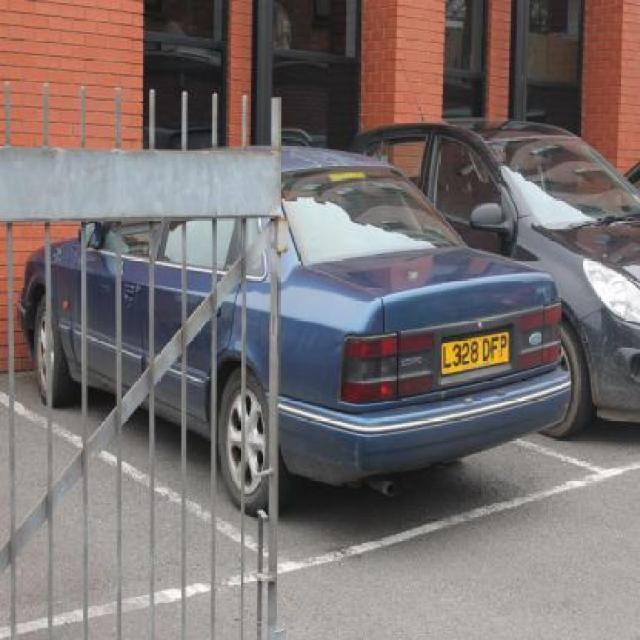License-Plates: (441, 332, 511, 377)
